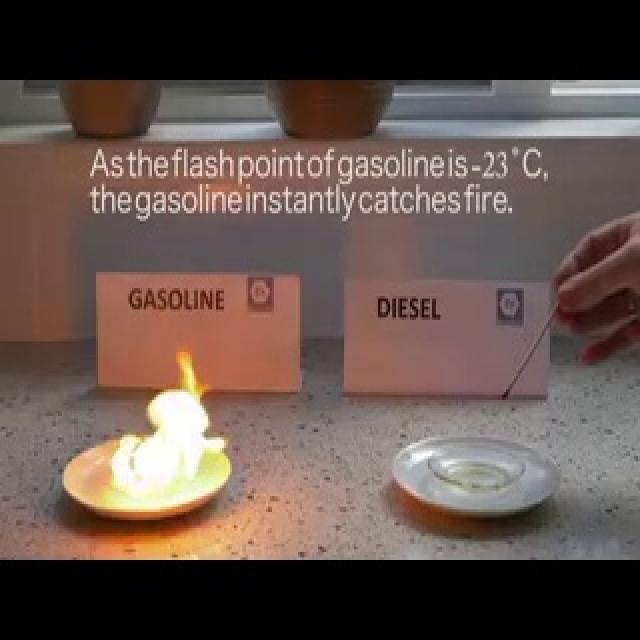fire: (119, 301, 223, 496)
